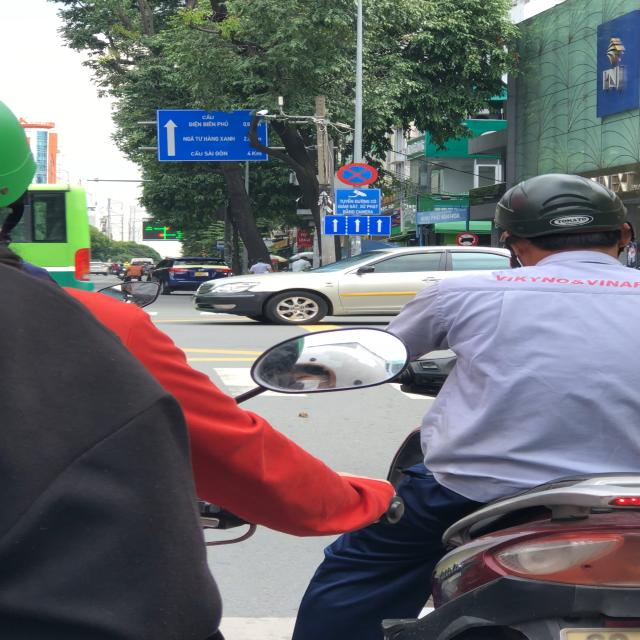Bien bao cam dung xe va do xe: (336, 160, 383, 187)
